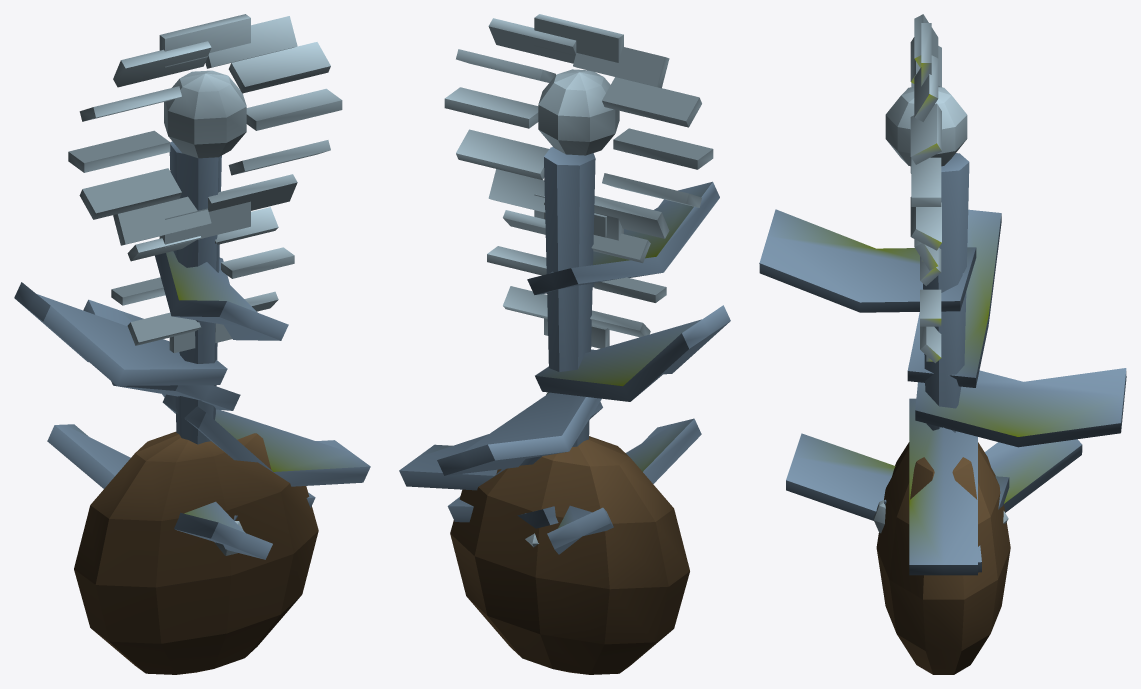
File: crop_frost_flower.glb
3 renders of one model, left to right at view 1: azimuth 30°, elevation 25°; view 2: azimuth 150°, elevation 25°; view 3: azimuth 270°, elevation 25°, orthographic. The views are drawn at different scales.
Visible parts, largest first — view 1: seed_mound, fleaf.002, fleaf, fcore, fleaf.003, stalk, fpetal.007, fpetal.001, fpetal.008, sprout_leaf.001, sprout_leaf.002, fpetal.004 (+15 smaller); view 2: seed_mound, stalk, fleaf.002, fleaf.001, fleaf.003, fcore, sprout_leaf.002, fpetal.005, fpetal.011, fleaf, fpetal.006, fpetal (+14 smaller); view 3: seed_mound, fleaf.001, fleaf.003, fleaf, stalk, sprout_leaf.002, fleaf.002, sprout_leaf.001, fcore, fpetal, fpetal.001, fpetal.011 (+5 smaller).
Part boxes in pixels (x1,y1,x2,y2): seed_mound: (74,431,318,674); fleaf.002: (14,282,227,385); fleaf: (162,394,370,486); fcore: (164,70,246,158); fleaf.003: (155,238,288,340); stalk: (169,141,221,444); fpetal.007: (79,168,181,219); fpetal.001: (228,42,330,93); fpetal.008: (113,196,211,245); sprout_leaf.001: (47,424,237,520); sprout_leaf.002: (174,501,272,559); fpetal.004: (113,41,211,87); seed_mound: (450,436,689,674); stalk: (544,147,595,446); fleaf.002: (535,305,730,401); fleaf.001: (437,392,601,475); fleaf.003: (527,181,719,294); fcore: (538,69,619,155); sprout_leaf.002: (517,418,701,528); fpetal.005: (602,77,701,127); fpetal.011: (456,129,549,179); fleaf: (399,401,602,490); fpetal.006: (613,128,713,169); fpetal: (444,87,538,128); seed_mound: (876,442,1010,674); fleaf.001: (915,368,1126,447); fleaf.003: (759,209,976,312); fleaf: (909,398,977,575); stalk: (923,153,969,432); sprout_leaf.002: (786,433,1009,520); fleaf.002: (907,209,1001,387); sprout_leaf.001: (884,439,1082,512); fcore: (885,86,967,166); fpetal: (911,157,941,206); fpetal.001: (910,103,941,164); fpetal.011: (910,197,941,250).
Size of the model in its own units: 0.4028 by 0.7975 by 0.4267.
